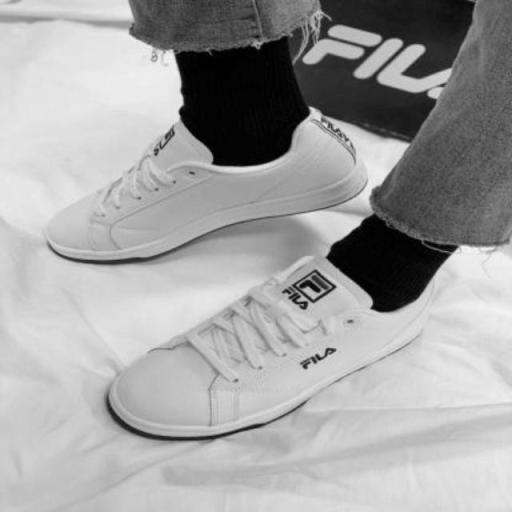Fila: (278, 259, 348, 322), (292, 342, 343, 375)
